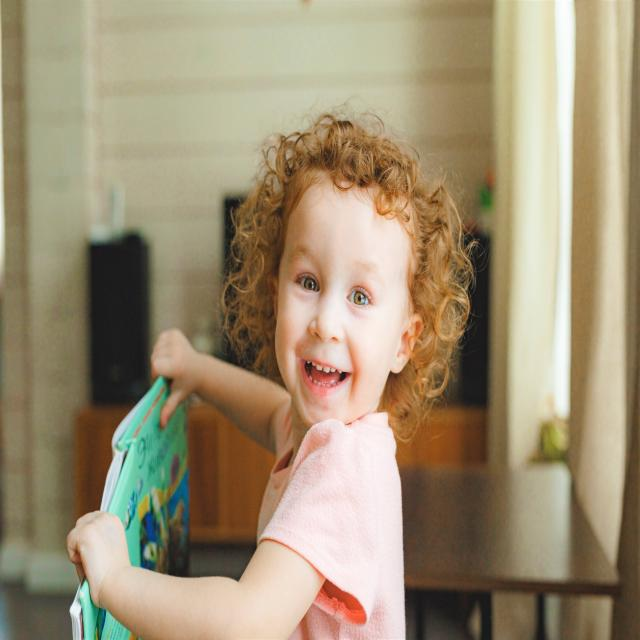child: (67, 118, 478, 640)
